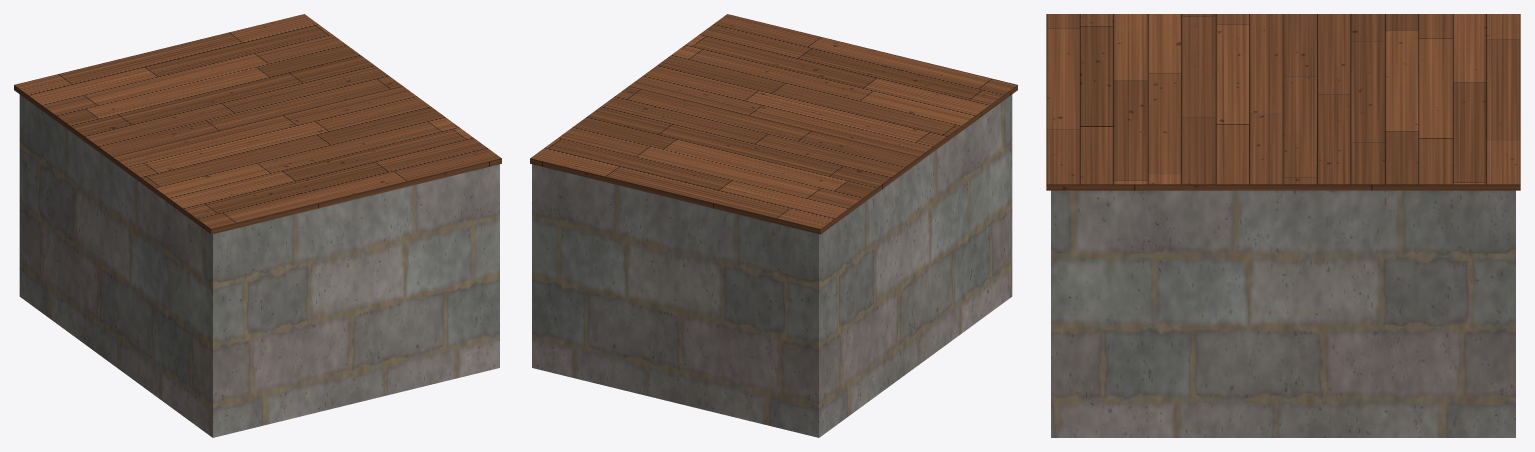
The model's file is floor_wood_e0_30_0_0.glb.
The picture shows the model from 3 angles, left to right: view 1: azimuth 30°, elevation 25°; view 2: azimuth 150°, elevation 25°; view 3: azimuth 270°, elevation 25°; orthographic projection. The views are drawn at different scales.
Visible parts, largest first — view 1: floor_wood_e0_30_0_0_granite, floor_wood_e0_30_0_0_wood; view 2: floor_wood_e0_30_0_0_granite, floor_wood_e0_30_0_0_wood; view 3: floor_wood_e0_30_0_0_granite, floor_wood_e0_30_0_0_wood.
Part boxes in pixels (left/top/right/bottom): floor_wood_e0_30_0_0_granite: left=19, top=94, right=499, bottom=437; floor_wood_e0_30_0_0_wood: left=14, top=14, right=501, bottom=234; floor_wood_e0_30_0_0_granite: left=532, top=94, right=1012, bottom=437; floor_wood_e0_30_0_0_wood: left=530, top=14, right=1017, bottom=234; floor_wood_e0_30_0_0_granite: left=1051, top=190, right=1515, bottom=437; floor_wood_e0_30_0_0_wood: left=1046, top=14, right=1520, bottom=190.
Size of the model in its own units: 1.7 by 1.18 by 2.
Materials: 2 (2 with a texture image).
